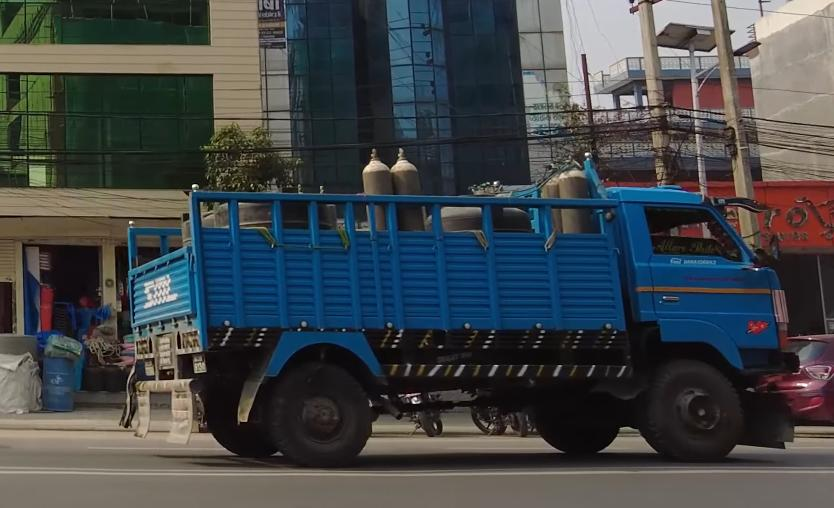car: (762, 322, 834, 450)
mini_truck: (111, 144, 788, 490)
